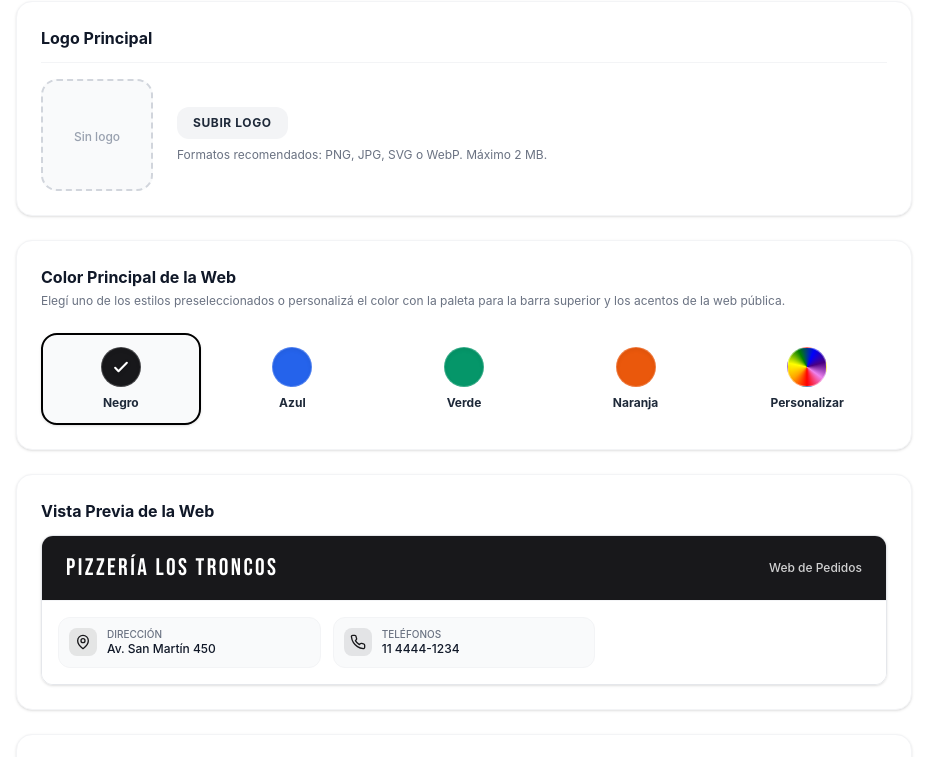
Test: ConfiguracionWebView › permite cambiar el color principal seleccionando un estilo predefinido y no incluye rojo
The image size is (929, 757).
(page scrolled)
Click the button "Azul".
click(292, 379)  # box [213,333,372,425]
(page scrolled)
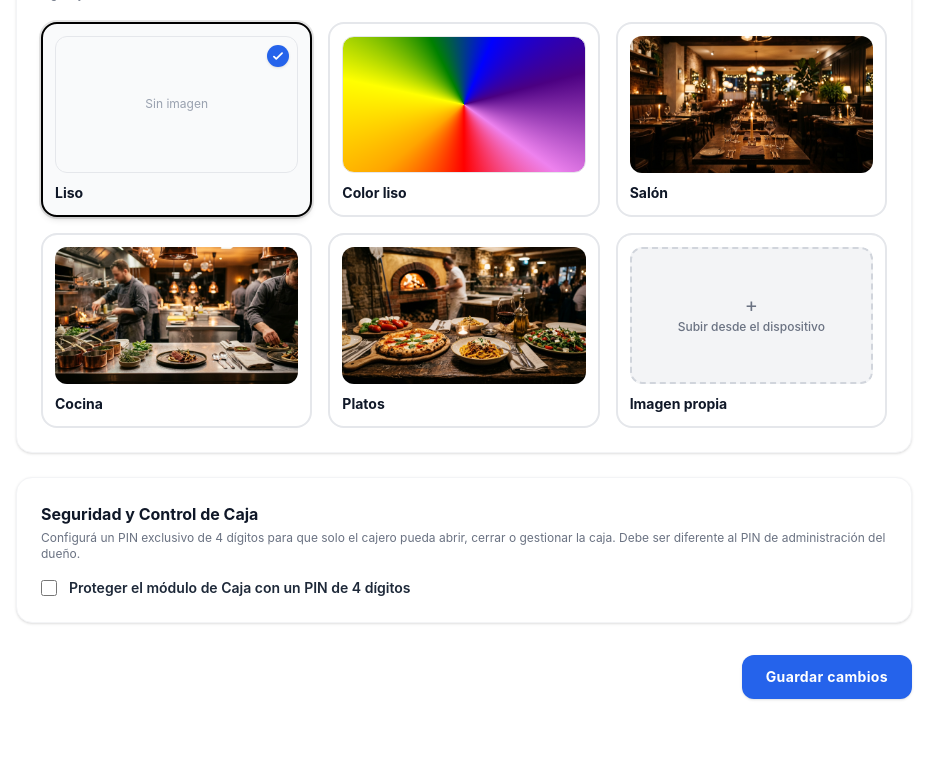
Click the button "Guardar cambios".
click(827, 676)  # box [742,654,912,698]
(page scrolled)
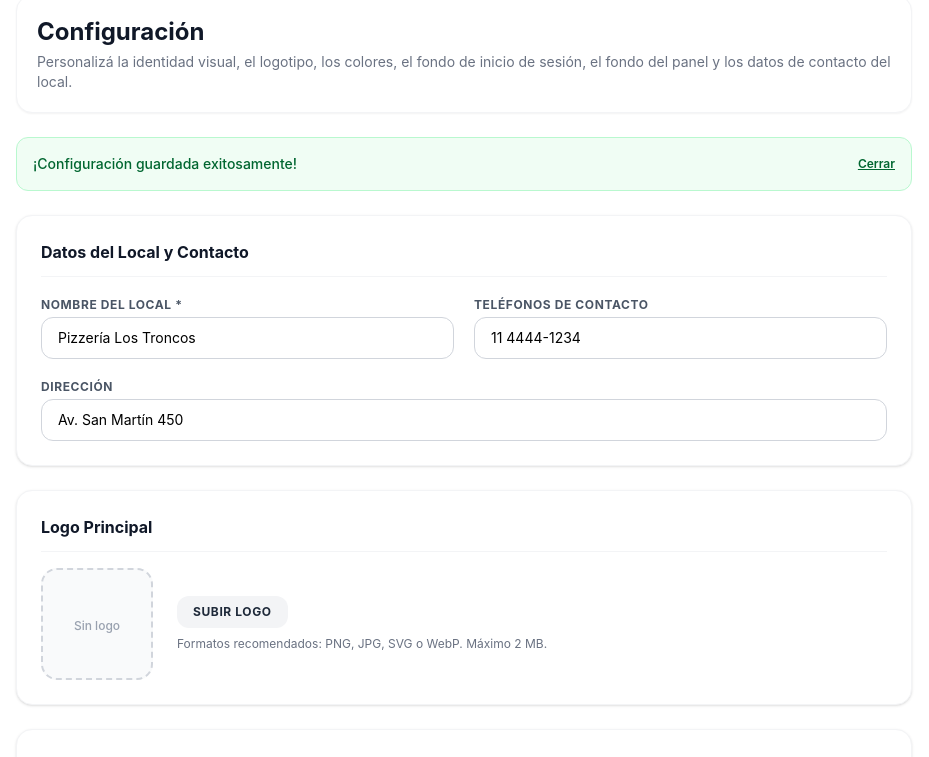
Expected: the text "¡Configuración guardada exitosamente!" is shown, [33,154,297,174]
